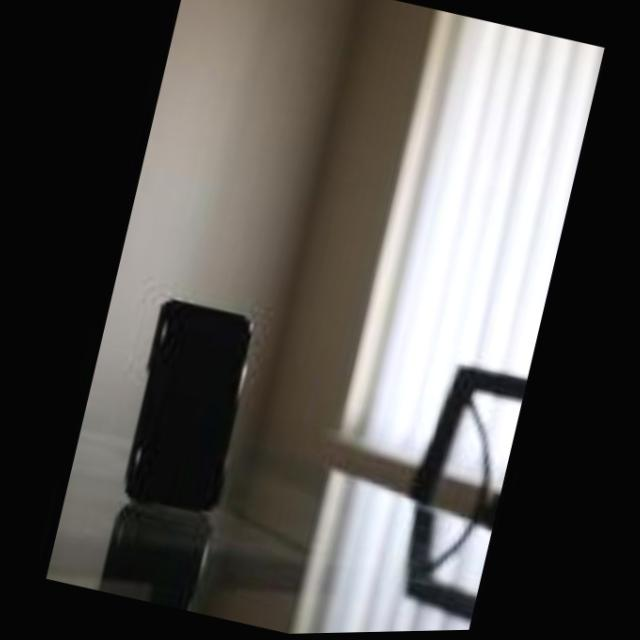Smartphone: (90, 282, 267, 614)
